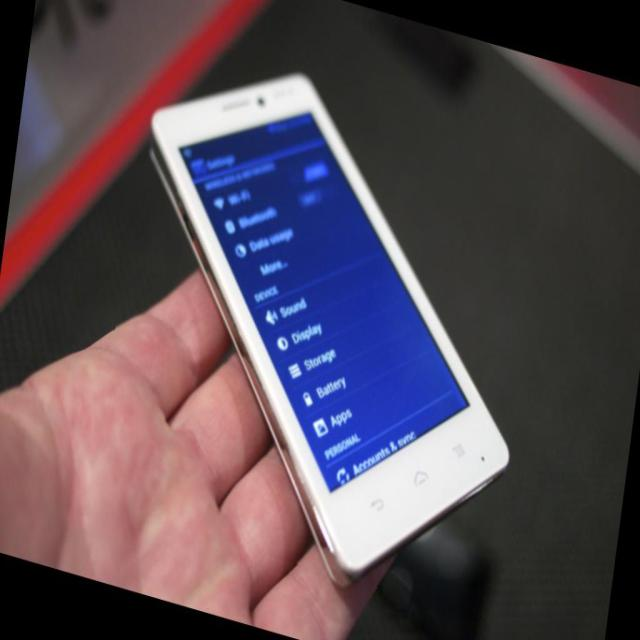handphone: (157, 70, 505, 546)
